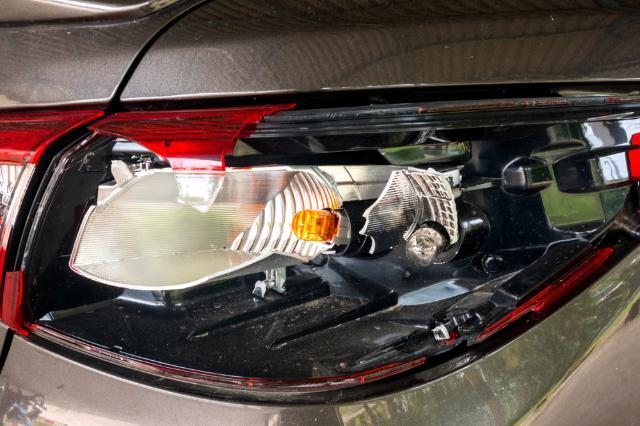lamp broken: (0, 90, 640, 405)
